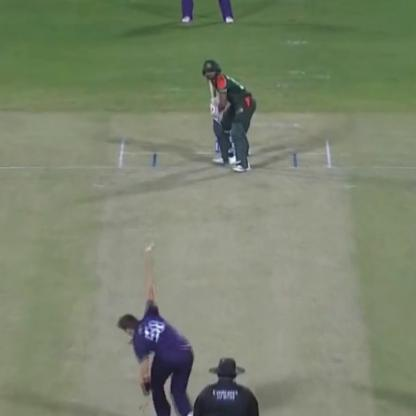ball: (138, 238, 156, 259)
bat: (200, 56, 221, 120)
pitch: (87, 134, 377, 416)
